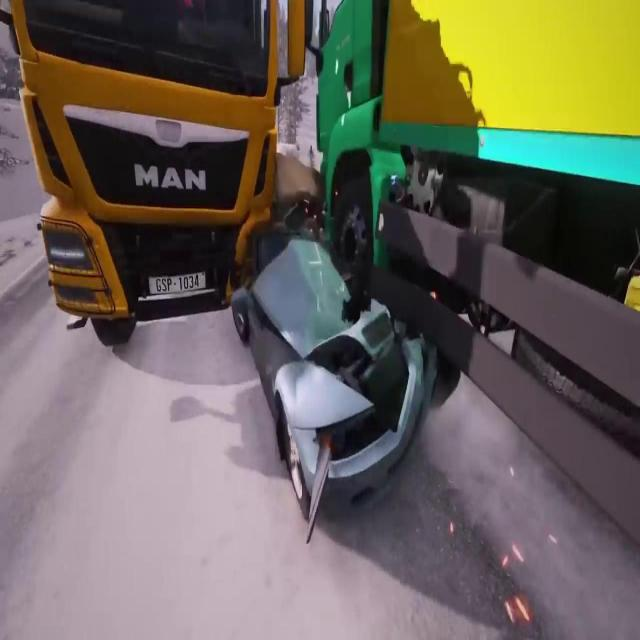severe: (3, 1, 640, 550)
